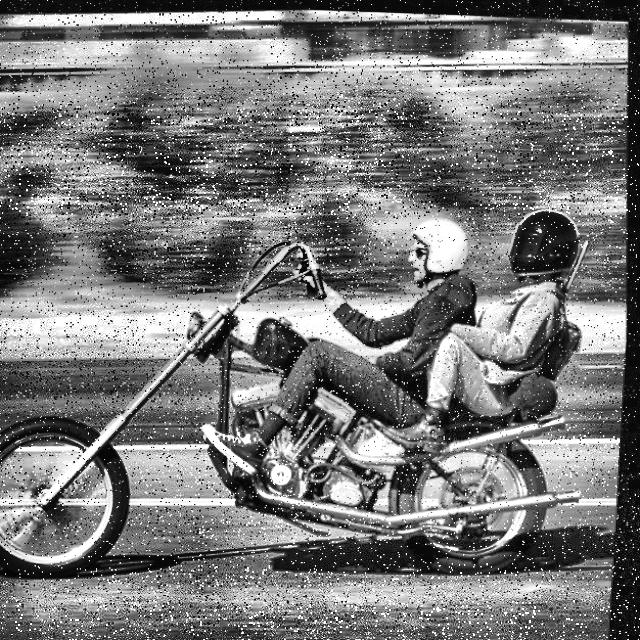Helmet: (504, 198, 588, 286), (404, 205, 480, 292)
